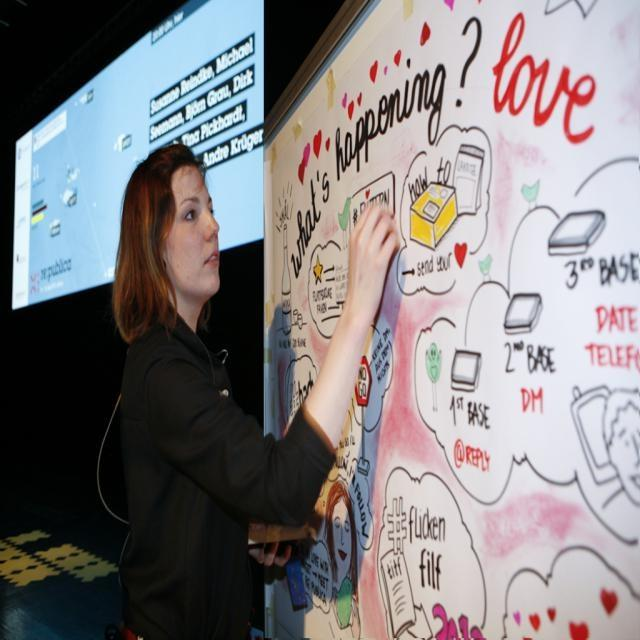Whiteboard: (262, 0, 639, 639)
